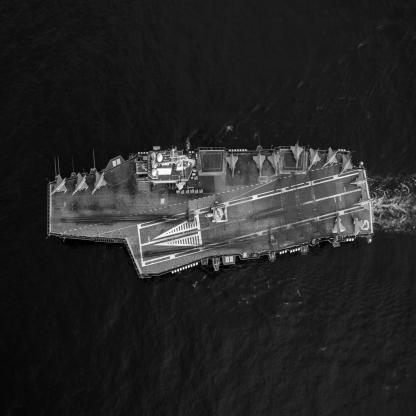E2: (206, 205, 229, 225)
Rafale: (73, 173, 90, 197), (354, 192, 374, 212), (51, 175, 69, 197), (227, 150, 240, 180), (92, 172, 108, 196), (351, 172, 371, 191), (291, 141, 304, 170), (268, 149, 281, 178), (254, 150, 267, 179), (333, 210, 347, 236), (352, 213, 366, 238), (324, 148, 340, 168), (309, 148, 322, 172), (340, 156, 354, 178)
